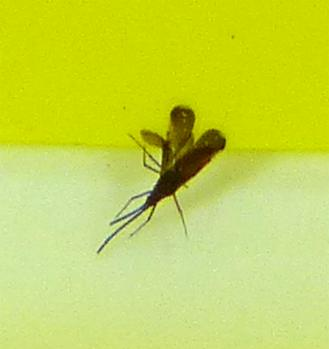Hemiptera: (100, 100, 229, 249)
